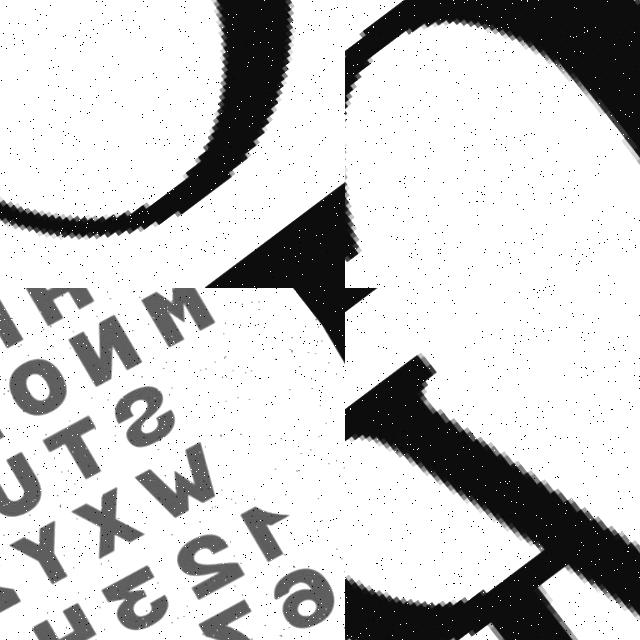1: (223, 491, 299, 567)
2: (154, 516, 251, 608)
3: (81, 550, 179, 640)
4: (17, 592, 109, 640)
6: (250, 551, 345, 640)
7: (181, 589, 275, 640)
C: (0, 0, 291, 249), (345, 0, 640, 169)
R: (345, 288, 640, 640)
